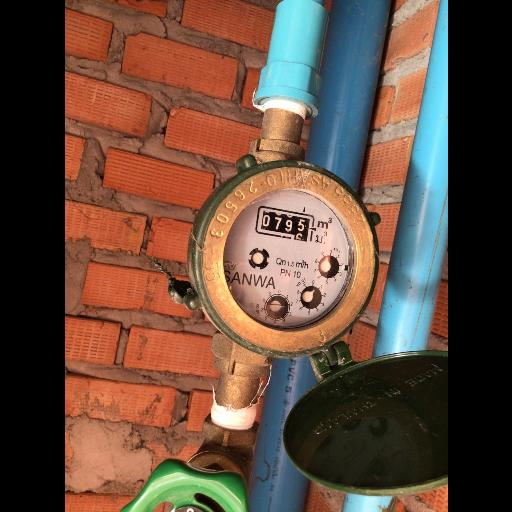0: (259, 210, 273, 231)
5: (294, 216, 311, 242)
7: (270, 212, 285, 233)
9: (281, 214, 297, 235)
border_water_meter_number: (253, 205, 316, 243)
